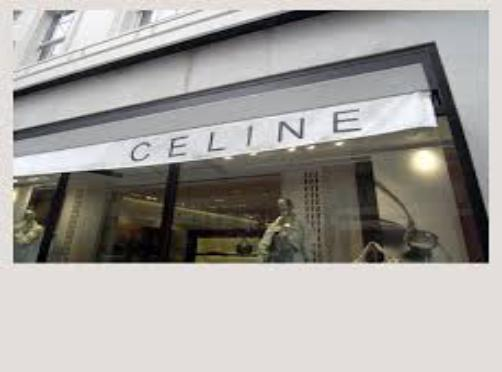CELINE: (127, 99, 368, 169)
